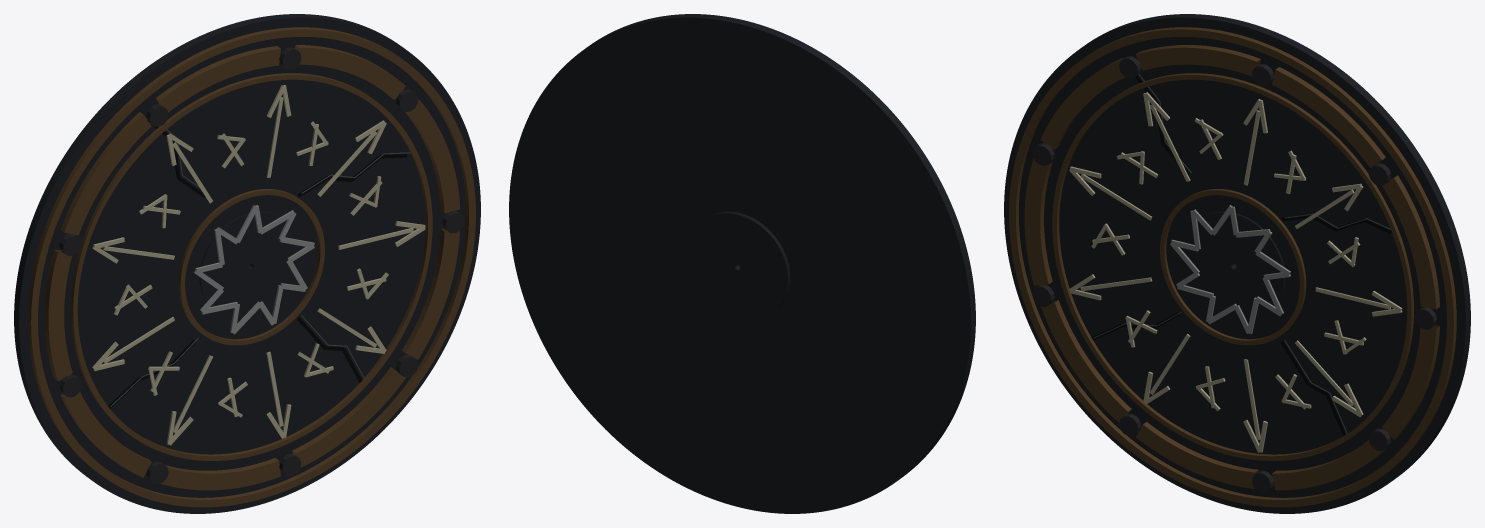
Rendered from SM_NinthThresholdSeal_v1.obj.
3 renders of one model, left to right at view 1: azimuth 30°, elevation 25°; view 2: azimuth 150°, elevation 25°; view 3: azimuth 330°, elevation 25°, orthographic.
Visible parts, largest first — view 1: basalt_floor, inner_bronze_bead, nine_divided_outer_arcs, engraved_radial_spokes, nine_glyphs, anchor_bosses, central_nine_point_sigil, fracture_fill, fracture_edge_highlights; view 2: basalt_floor; view 3: basalt_floor, inner_bronze_bead, nine_divided_outer_arcs, engraved_radial_spokes, nine_glyphs, anchor_bosses, central_nine_point_sigil, fracture_fill, fracture_edge_highlights.
Part boxes in pixels (x1,y1,x2,y2): basalt_floor: [14, 14, 480, 513]; inner_bronze_bead: [28, 27, 475, 507]; nine_divided_outer_arcs: [44, 45, 460, 490]; engraved_radial_spokes: [92, 85, 425, 445]; nine_glyphs: [114, 121, 388, 417]; anchor_bosses: [59, 47, 464, 484]; central_nine_point_sigil: [194, 205, 314, 334]; fracture_fill: [108, 124, 407, 408]; fracture_edge_highlights: [110, 129, 410, 406]; basalt_floor: [509, 14, 975, 513]; basalt_floor: [1004, 14, 1470, 513]; inner_bronze_bead: [1009, 27, 1456, 507]; nine_divided_outer_arcs: [1024, 45, 1439, 490]; engraved_radial_spokes: [1069, 92, 1402, 452]; nine_glyphs: [1091, 118, 1366, 411]; anchor_bosses: [1032, 56, 1437, 493]; central_nine_point_sigil: [1170, 205, 1290, 334]; fracture_fill: [1091, 75, 1391, 435]; fracture_edge_highlights: [1093, 74, 1390, 433].
Size of the model in its own units: 1.74 by 1.74 by 0.099.
